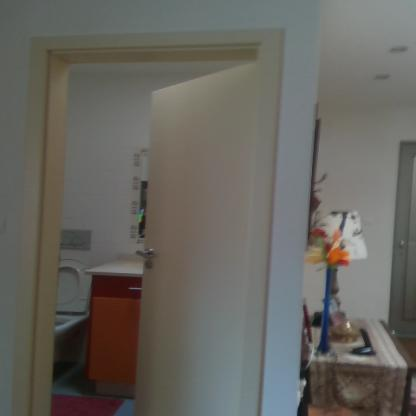semi: (25, 28, 288, 416)
